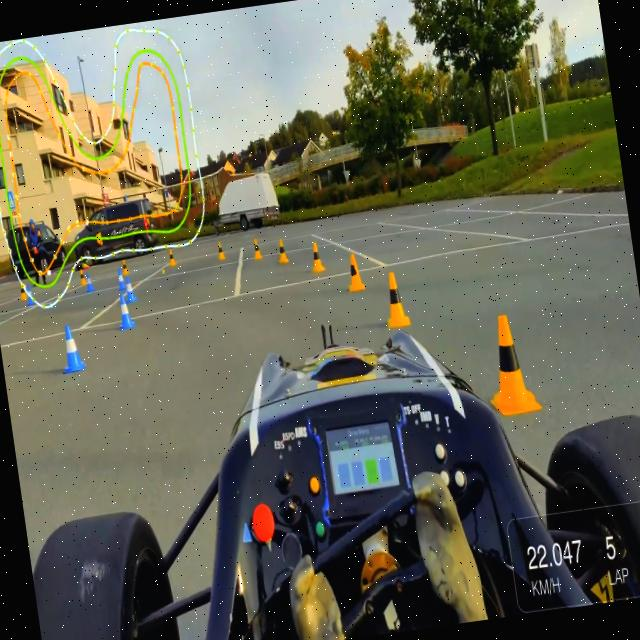blue_cone: (56, 320, 88, 376), (114, 293, 136, 333), (121, 275, 138, 305), (115, 266, 128, 292), (84, 269, 96, 295), (26, 285, 36, 309)
yellow_cone: (477, 306, 547, 424), (376, 266, 412, 332), (343, 251, 367, 295), (306, 239, 327, 276), (272, 235, 292, 267), (250, 236, 264, 262), (215, 239, 228, 262), (166, 246, 178, 268), (119, 255, 131, 276), (18, 282, 28, 302), (77, 266, 87, 286)
